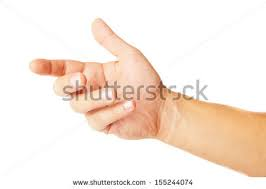hand: (16, 15, 185, 147)
